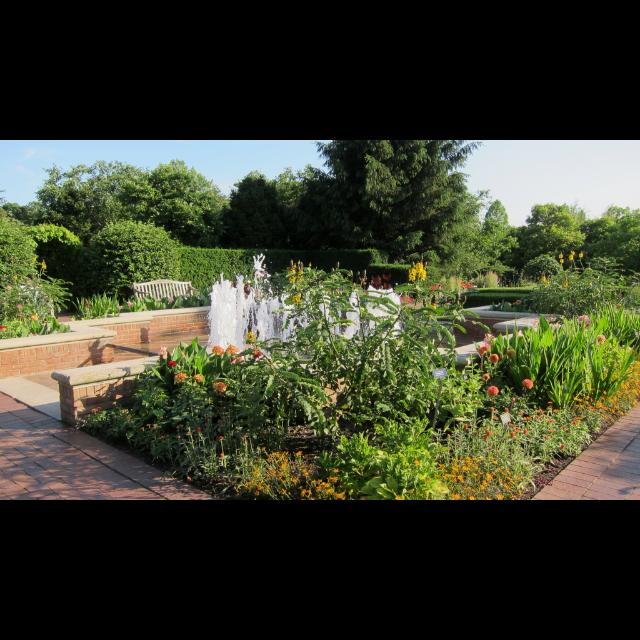Flower: (238, 446, 524, 499), (448, 398, 588, 448), (573, 356, 639, 416), (289, 268, 305, 302), (406, 262, 426, 282), (226, 342, 238, 356), (482, 332, 496, 344), (487, 384, 499, 398), (174, 371, 186, 383), (213, 382, 225, 394), (158, 345, 168, 359), (210, 346, 224, 356), (91, 404, 101, 414), (192, 372, 202, 382), (252, 348, 262, 358), (479, 344, 489, 354), (488, 352, 498, 362), (248, 330, 255, 342), (524, 378, 532, 388), (568, 251, 576, 261), (578, 314, 588, 322), (595, 333, 603, 342), (234, 355, 242, 363), (507, 348, 515, 356), (482, 371, 488, 381), (558, 254, 564, 264), (0, 324, 8, 330), (29, 314, 37, 320), (168, 360, 176, 366), (220, 435, 226, 441), (578, 253, 584, 259), (221, 451, 225, 459), (15, 314, 22, 318), (18, 304, 22, 310), (188, 474, 190, 482)
